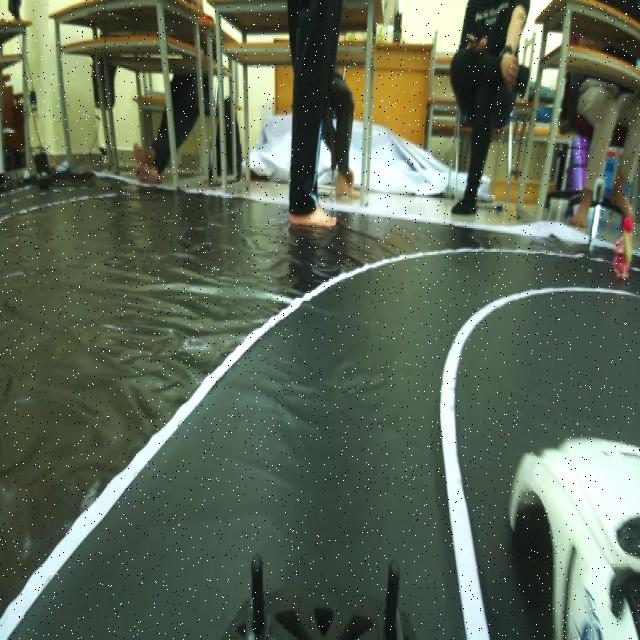car: (505, 431, 640, 640)
